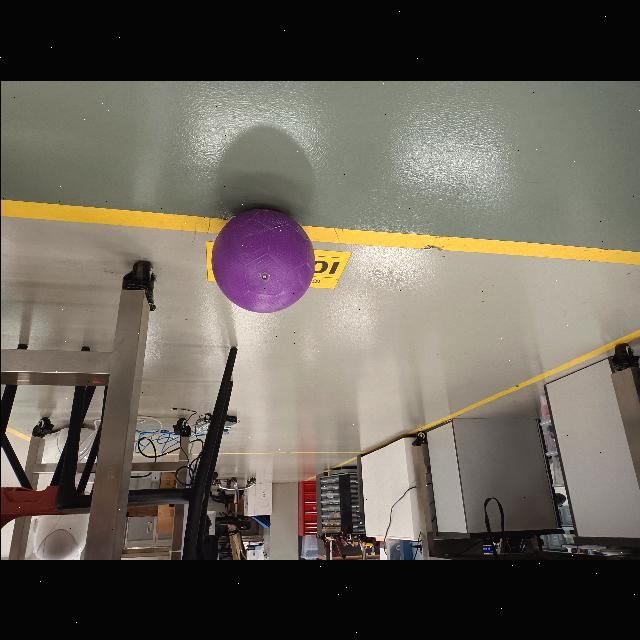P: (211, 208, 313, 314)
